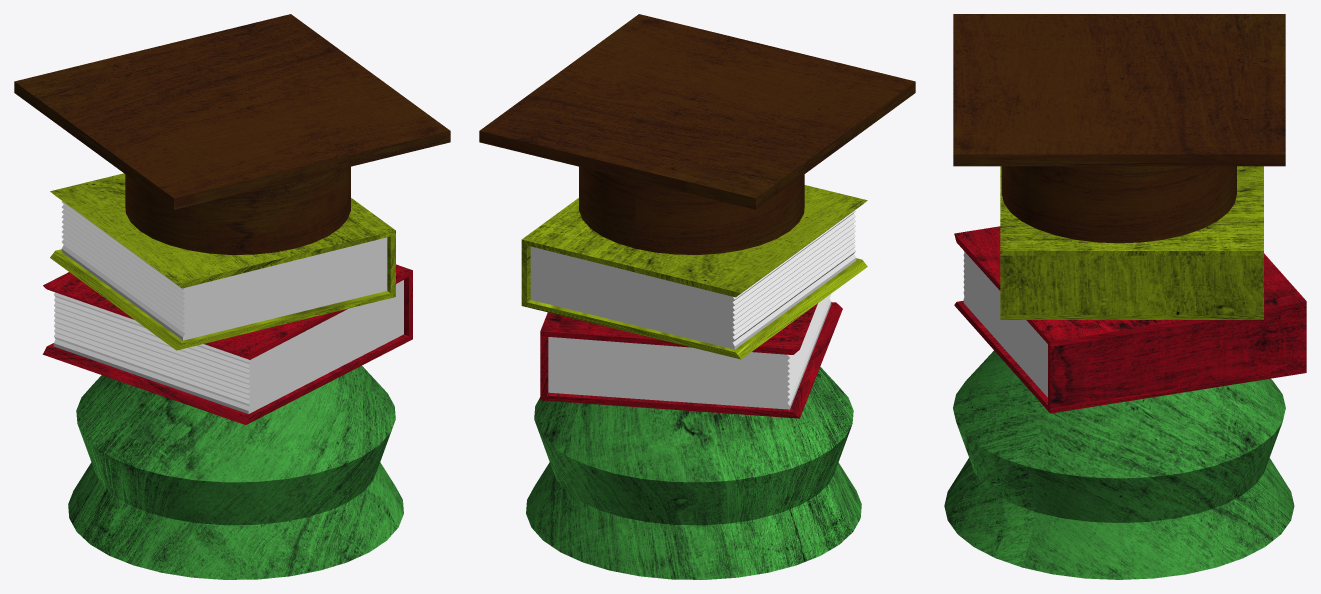
Rendered from educacao.fbx.
The picture shows the model from 3 angles, left to right: view 1: azimuth 30°, elevation 25°; view 2: azimuth 150°, elevation 25°; view 3: azimuth 270°, elevation 25°; orthographic projection. The views are drawn at different scales.
Parts seen in each view (by area): view 1: Circle, Cube.004, Cube.001, Cube.002, Cube.003, Cylinder, Cube; view 2: Circle, Cube.004, Cube.002, Cube.003, Cube.001, Cylinder, Cube; view 3: Circle, Cube.004, Cube.003, Cube, Cylinder, Cube.001.
Boxes of the visible parts, x1,y1,x2,y2 form: Circle: [68, 365, 403, 579]; Cube.004: [14, 14, 450, 209]; Cube.001: [53, 280, 403, 413]; Cube.002: [61, 201, 387, 340]; Cube.003: [50, 173, 395, 350]; Cylinder: [125, 166, 350, 254]; Cube: [42, 264, 412, 424]; Circle: [526, 367, 861, 579]; Cube.004: [479, 14, 915, 209]; Cube.002: [530, 210, 856, 349]; Cube.003: [521, 185, 867, 359]; Cube.001: [548, 294, 831, 409]; Cylinder: [579, 166, 804, 254]; Cube: [540, 302, 842, 418]; Circle: [944, 350, 1294, 579]; Cube.004: [953, 14, 1285, 166]; Cube.003: [1000, 166, 1263, 319]; Cube: [954, 226, 1306, 413]; Cylinder: [1001, 166, 1236, 243]; Cube.001: [963, 251, 1047, 397].
Bounding box in the file's own units: 174 × 227 × 177.
5 materials, 5 textured.
